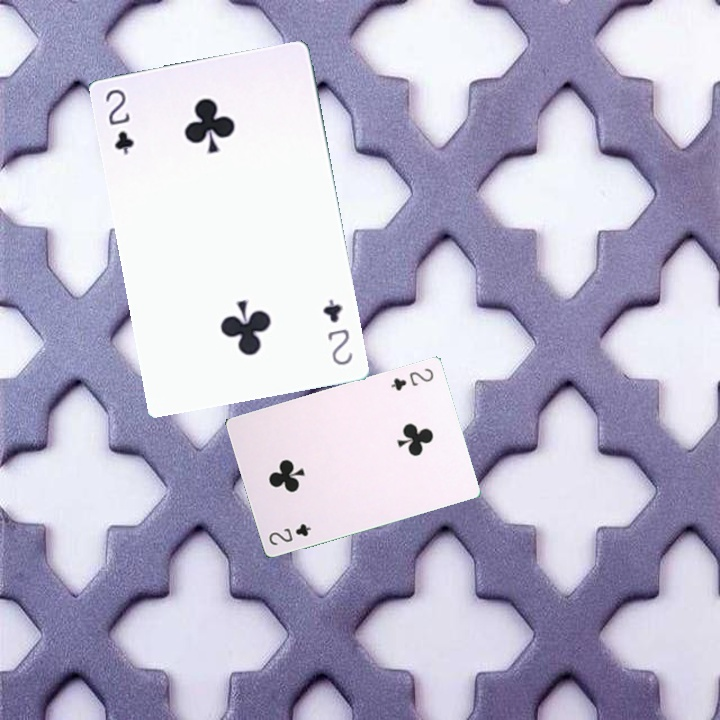2c: (318, 295, 356, 368), (101, 85, 137, 158), (387, 364, 436, 393), (265, 519, 314, 548)
